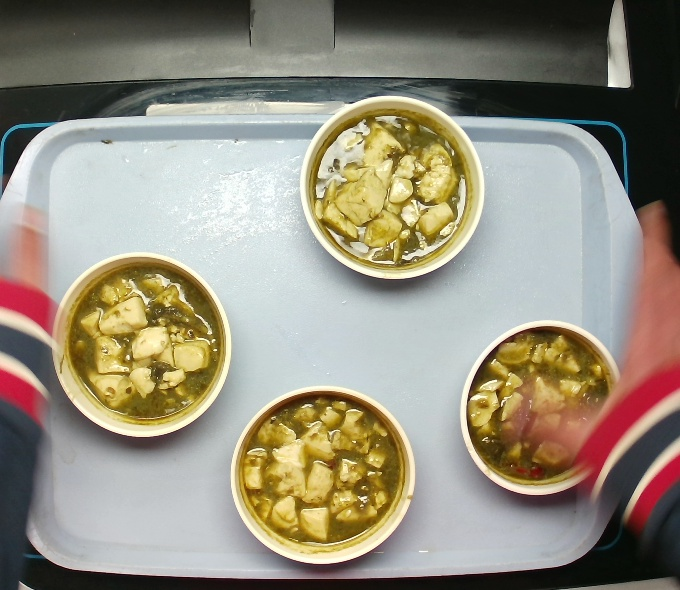wcq-SuanCaiDouFu: (236, 389, 407, 552), (307, 105, 474, 271), (64, 261, 226, 426), (465, 324, 616, 489)
